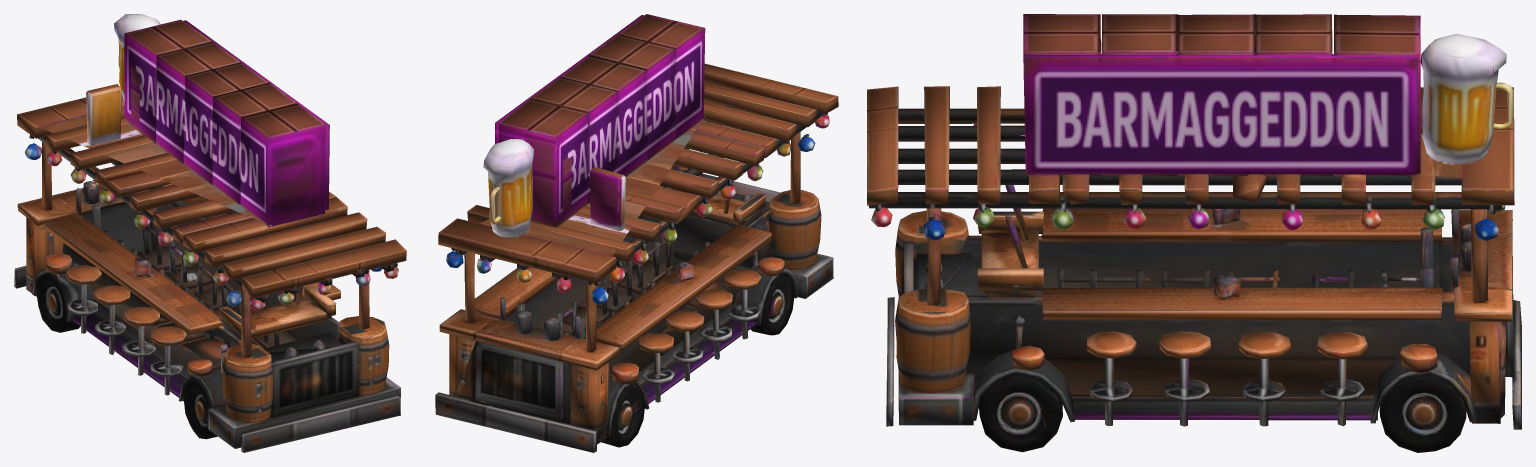
The model's file is barmaggeddon.glb.
The picture shows the model from 3 angles, left to right: view 1: azimuth 30°, elevation 25°; view 2: azimuth 150°, elevation 25°; view 3: azimuth 270°, elevation 25°; orthographic projection. The views are drawn at different scales.
Visible parts, largest first — view 1: barmaggeddon; view 2: barmaggeddon; view 3: barmaggeddon.
Part boxes in pixels (x1,y1,x2,y2): barmaggeddon: (14, 14, 406, 452); barmaggeddon: (435, 14, 838, 452); barmaggeddon: (867, 14, 1521, 452).
Size of the model in its own units: 2.4 by 3.66 by 5.6.
1 material, 1 textured.
